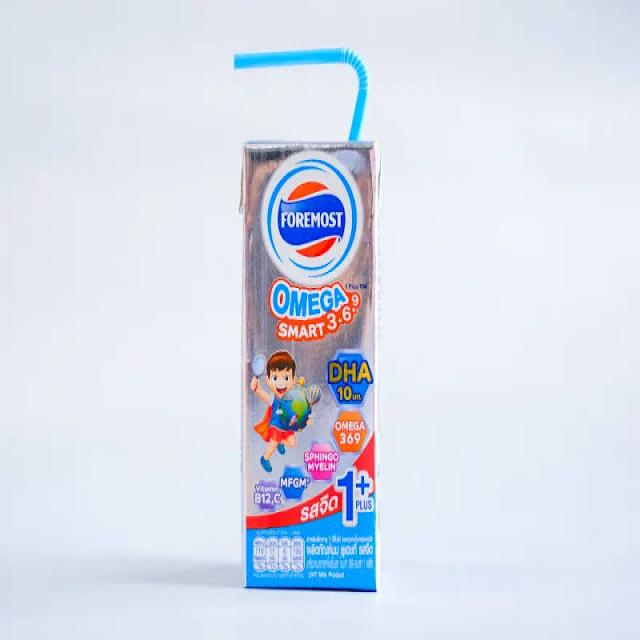drink carton: (242, 124, 386, 608)
